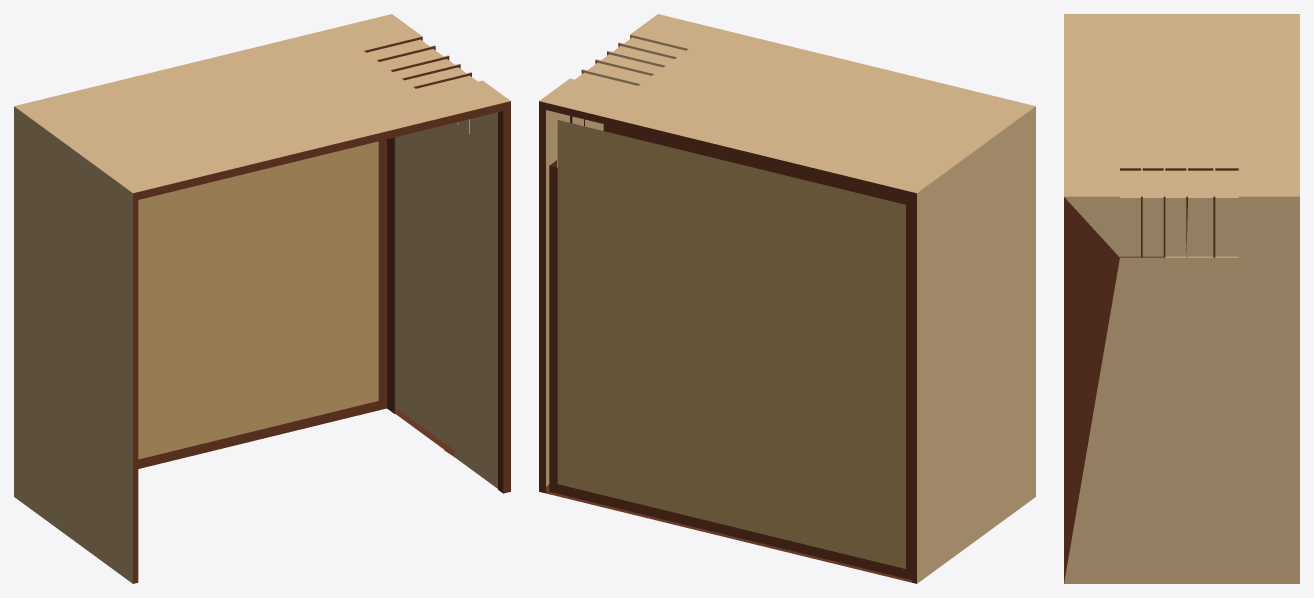
File: room02_3dsmax.obj
3 views of the same model, side by side, from view 1: azimuth 30°, elevation 25°; view 2: azimuth 150°, elevation 25°; view 3: azimuth 270°, elevation 25° (orthographic).
Visible parts, largest first — view 1: room02; view 2: room02; view 3: room02.
Part boxes in pixels (x1,y1,x2,y2): room02: (14, 14, 510, 583); room02: (539, 14, 1035, 583); room02: (1064, 14, 1299, 583).
Bounding box in the file's own units: 248 × 244 × 135.
